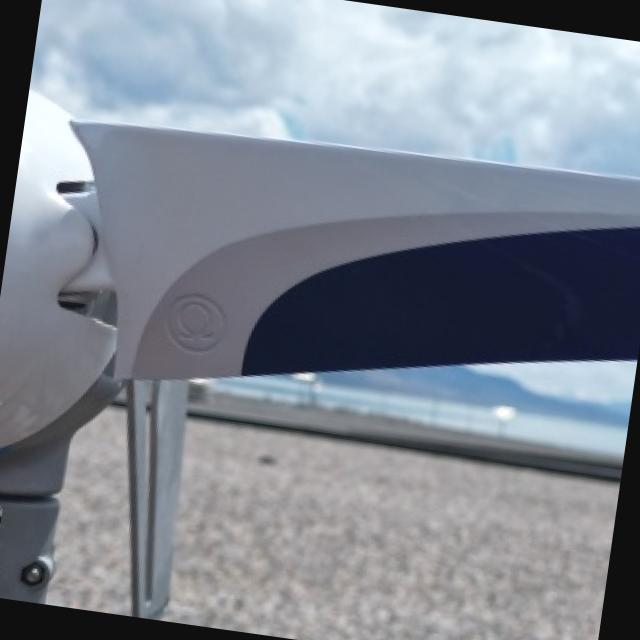healthy: (0, 90, 640, 617)
